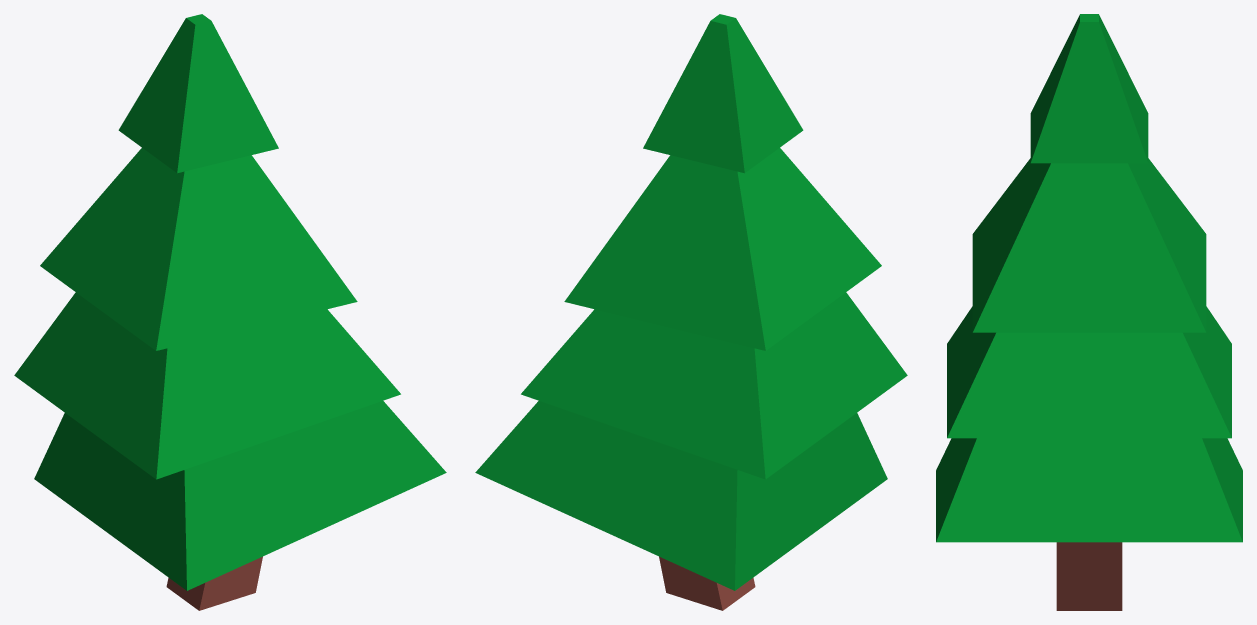
File: Tree 2.fbx
3 views of the same model, side by side, from view 1: azimuth 30°, elevation 25°; view 2: azimuth 150°, elevation 25°; view 3: azimuth 270°, elevation 25° (orthographic).
Parts seen in each view (by area): view 1: Tree 2; view 2: Tree 2; view 3: Tree 2.
Boxes of the visible parts, x1,y1,x2,y2 form: Tree 2: (14,14,446,610); Tree 2: (475,14,907,610); Tree 2: (936,14,1242,610).
Bounding box in the file's own units: 154 × 297 × 143.
1 material, 1 textured.
